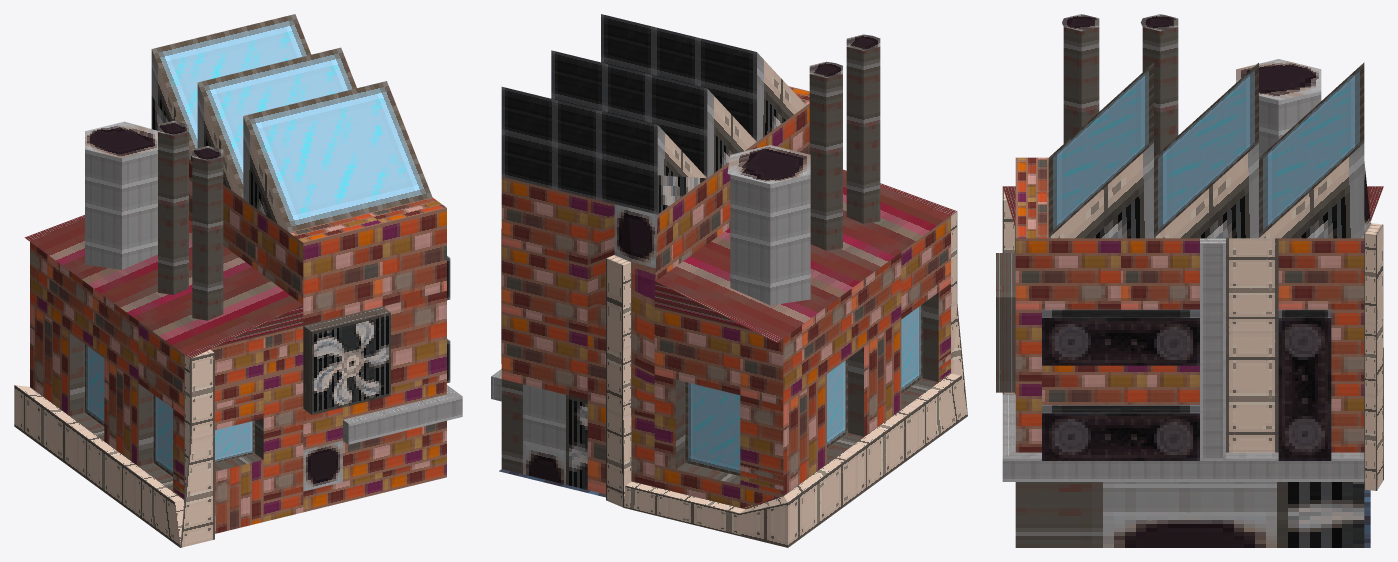
File: refinery.glb
3 renders of one model, left to right at view 1: azimuth 30°, elevation 25°; view 2: azimuth 150°, elevation 25°; view 3: azimuth 270°, elevation 25°, orthographic. The views are drawn at different scales.
Parts seen in each view (by area): view 1: factory; view 2: factory; view 3: factory.
Boxes of the visible parts, left/top/right/bottom form: factory: left=14, top=14, right=462, bottom=547; factory: left=491, top=14, right=967, bottom=547; factory: left=996, top=14, right=1383, bottom=547.
Bounding box in the file's own units: 29 × 34.18 × 29.5.
Materials: 1 (1 with a texture image).
